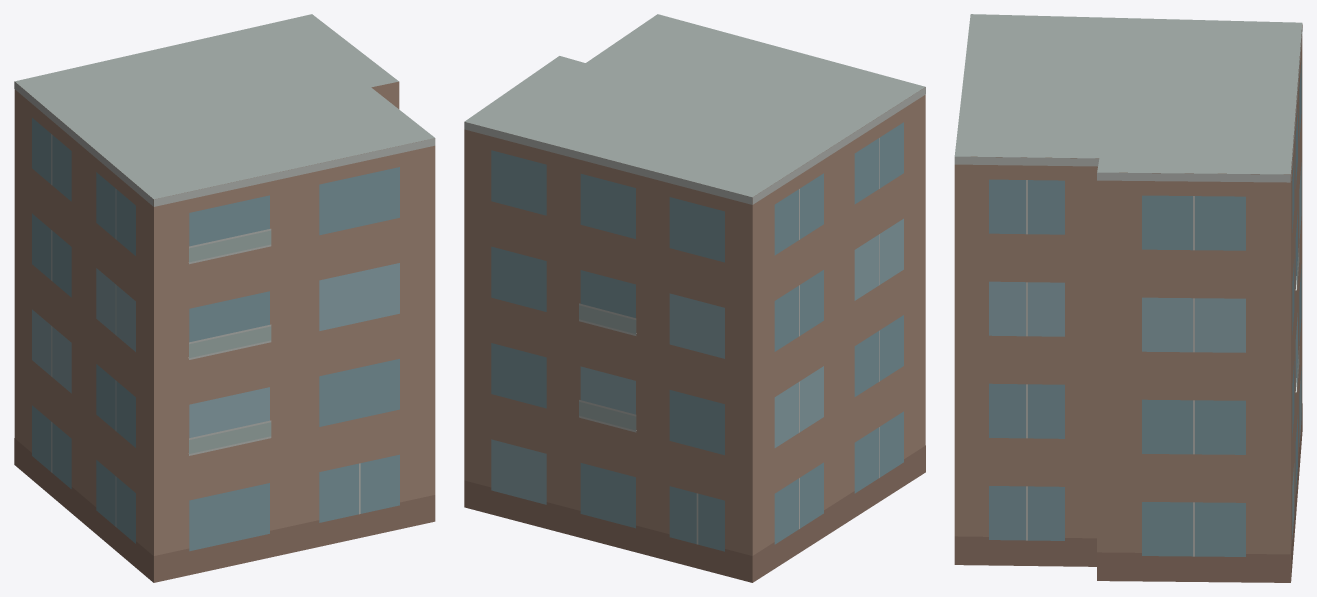
The model's file is survey-upis-32580994.glb.
The picture shows the model from 3 angles, left to right: view 1: azimuth 30°, elevation 25°; view 2: azimuth 150°, elevation 25°; view 3: azimuth 270°, elevation 25°; orthographic projection. The views are drawn at different scales.
Visible parts, largest first — view 1: survey-upis-32580994.tmp; view 2: survey-upis-32580994.tmp; view 3: survey-upis-32580994.tmp.
Part boxes in pixels (bbox=[...]): survey-upis-32580994.tmp: bbox=[14, 14, 435, 582]; survey-upis-32580994.tmp: bbox=[464, 14, 925, 582]; survey-upis-32580994.tmp: bbox=[954, 14, 1302, 582].
Bounding box in the file's own units: 10.37 × 12.3 × 9.5.
